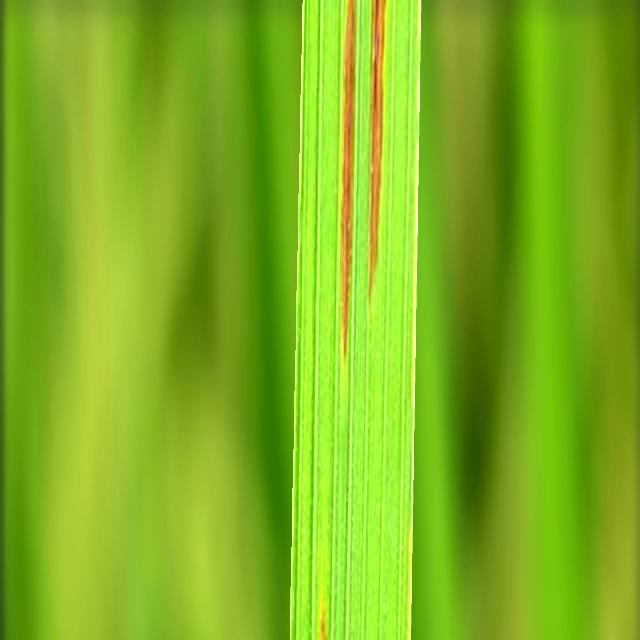NBS: (341, 0, 355, 357), (370, 0, 386, 298), (319, 603, 327, 640)
